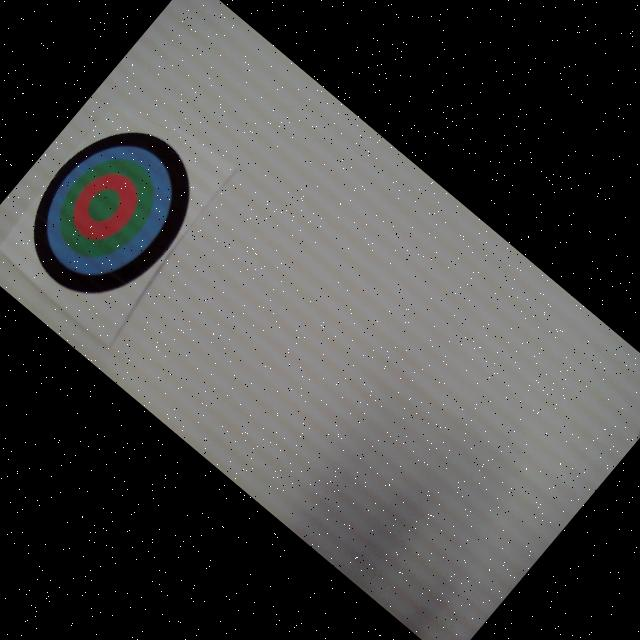COGNITIVE: (0, 100, 221, 327)
